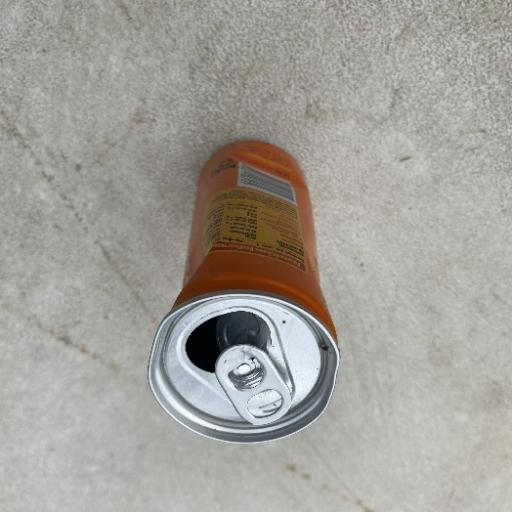Metal: (145, 136, 343, 444)
